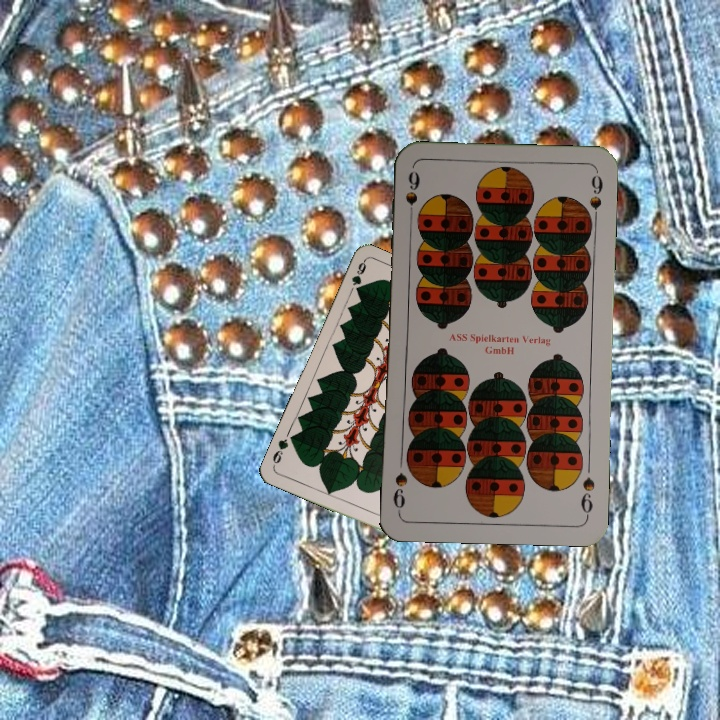G9: (347, 258, 369, 295)
S9: (401, 168, 422, 225), (576, 473, 598, 520)
